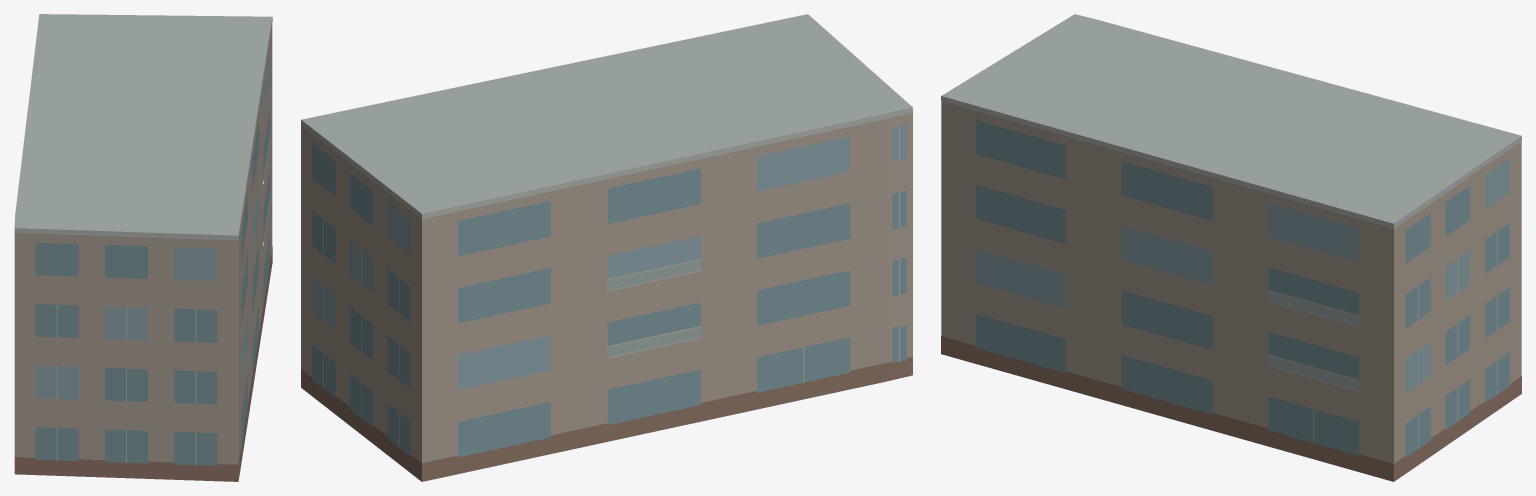
Rendered from survey-upis-32956938.glb.
3 renders of one model, left to right at view 1: azimuth 30°, elevation 25°; view 2: azimuth 150°, elevation 25°; view 3: azimuth 270°, elevation 25°, orthographic. The views are drawn at different scales.
Visible parts, largest first — view 1: survey-upis-32956938.tmp; view 2: survey-upis-32956938.tmp; view 3: survey-upis-32956938.tmp.
Part boxes in pixels (x1,y1,x2,y2): survey-upis-32956938.tmp: (14,14,272,481); survey-upis-32956938.tmp: (301,14,912,481); survey-upis-32956938.tmp: (941,14,1521,481).
Size of the model in its own units: 21.27 by 12.2 by 24.87.
